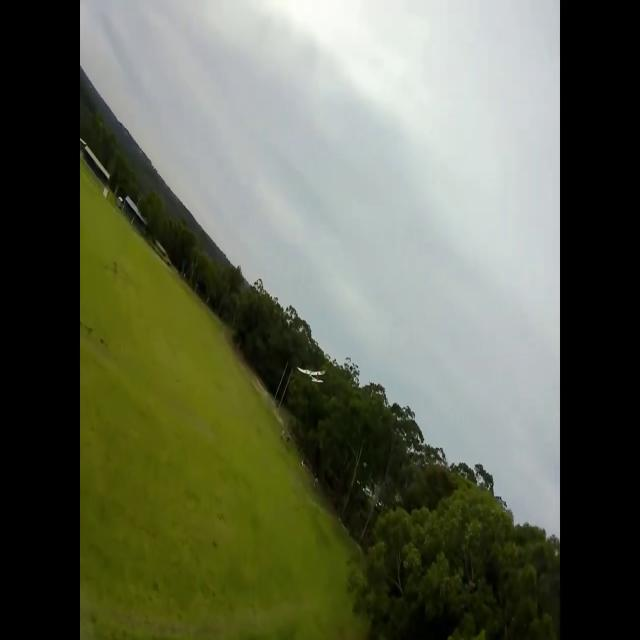iha: (296, 365, 327, 383)
